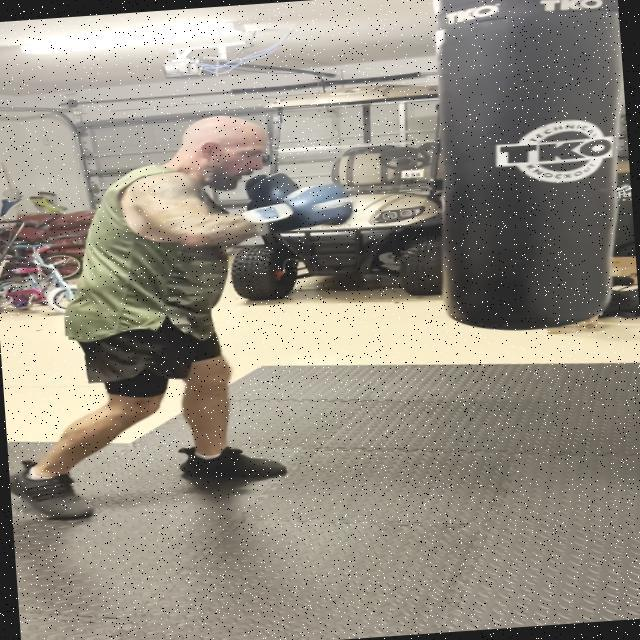bag: (420, 0, 637, 338)
cross: (60, 66, 378, 279)
